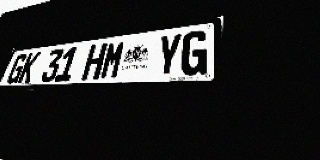1: (54, 46, 80, 82)
3: (40, 48, 65, 82)
G: (179, 29, 209, 76), (5, 53, 29, 84)
H: (81, 43, 108, 80)
K: (17, 52, 41, 83)
M: (99, 40, 127, 80)
Y: (154, 33, 183, 77)
